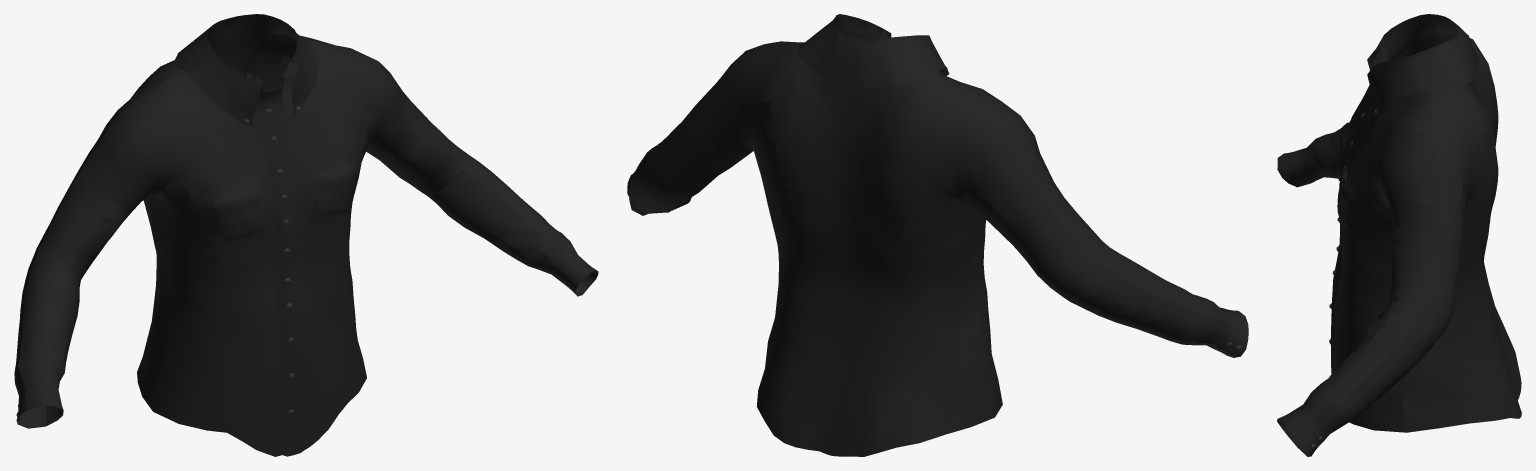
Rendered from elvs-male-shirt-untucked-bd1.glb.
3 views of the same model, side by side, from view 1: azimuth 30°, elevation 25°; view 2: azimuth 150°, elevation 25°; view 3: azimuth 270°, elevation 25° (orthographic). The views are drawn at different scales.
Visible parts, largest first — view 1: male shirt untucked bd; view 2: male shirt untucked bd; view 3: male shirt untucked bd.
Boxes of the visible parts, box(x1,y1,x2,y2) form: male shirt untucked bd: box(14, 14, 598, 456); male shirt untucked bd: box(627, 14, 1248, 456); male shirt untucked bd: box(1277, 14, 1521, 456).
Bounding box in the file's own units: 105 × 67.79 × 38.16.
1 material, 1 textured.
